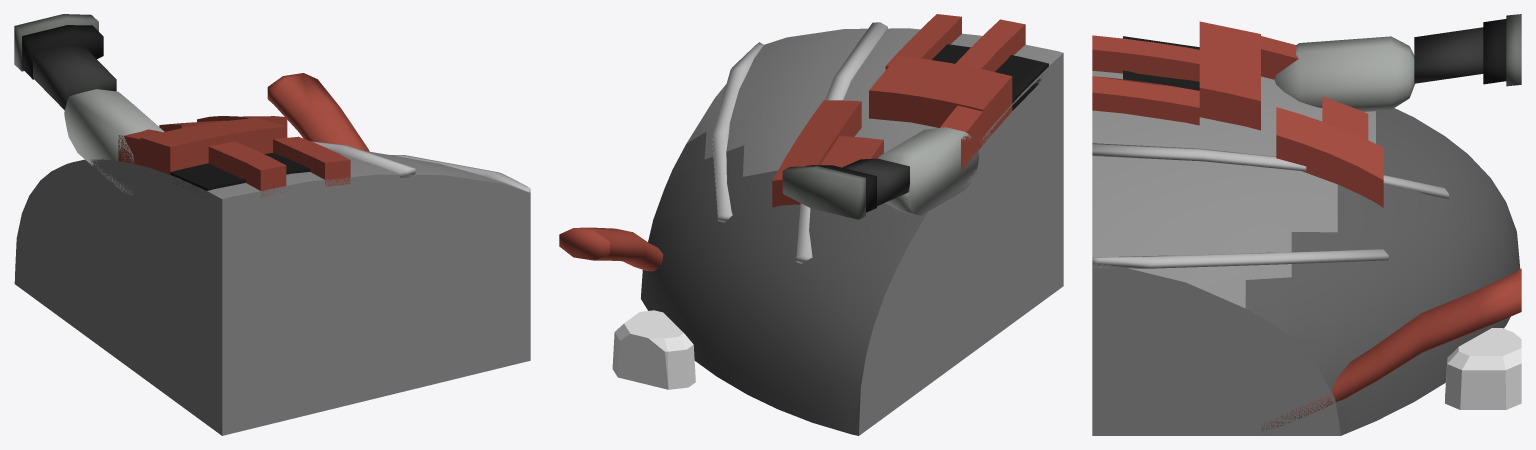
File: newshi-43-f2.glb
3 renders of one model, left to right at view 1: azimuth 30°, elevation 25°; view 2: azimuth 150°, elevation 25°; view 3: azimuth 270°, elevation 25°, orthographic. The views are drawn at different scales.
Visible parts, largest first — view 1: newshi-43-f2; view 2: newshi-43-f2; view 3: newshi-43-f2.
Boxes of the visible parts, left/top/right/bottom form: newshi-43-f2: left=14, top=14, right=530, bottom=435; newshi-43-f2: left=559, top=14, right=1063, bottom=435; newshi-43-f2: left=1092, top=14, right=1521, bottom=435.
Bounding box in the file's own units: 2 × 1.61 × 2.33.
